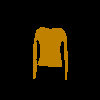maglia: (32, 26, 68, 80)
